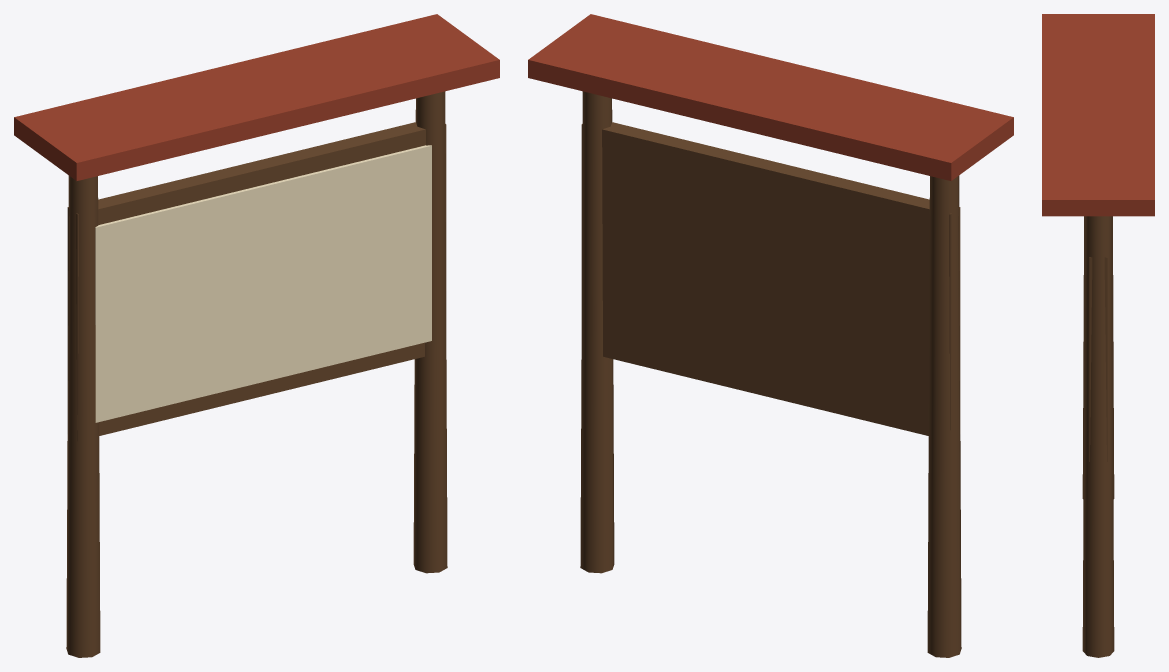
File: info_board.glb
3 renders of one model, left to right at view 1: azimuth 30°, elevation 25°; view 2: azimuth 150°, elevation 25°; view 3: azimuth 270°, elevation 25°, orthographic. The views are drawn at different scales.
Visible parts, largest first — view 1: info_board_mesh; view 2: info_board_mesh; view 3: info_board_mesh.
Part boxes in pixels (bbox=[...]): info_board_mesh: bbox=[14, 14, 499, 657]; info_board_mesh: bbox=[528, 14, 1013, 657]; info_board_mesh: bbox=[1042, 14, 1154, 657].
Size of the model in its own units: 1.95 by 2.29 by 0.5.
